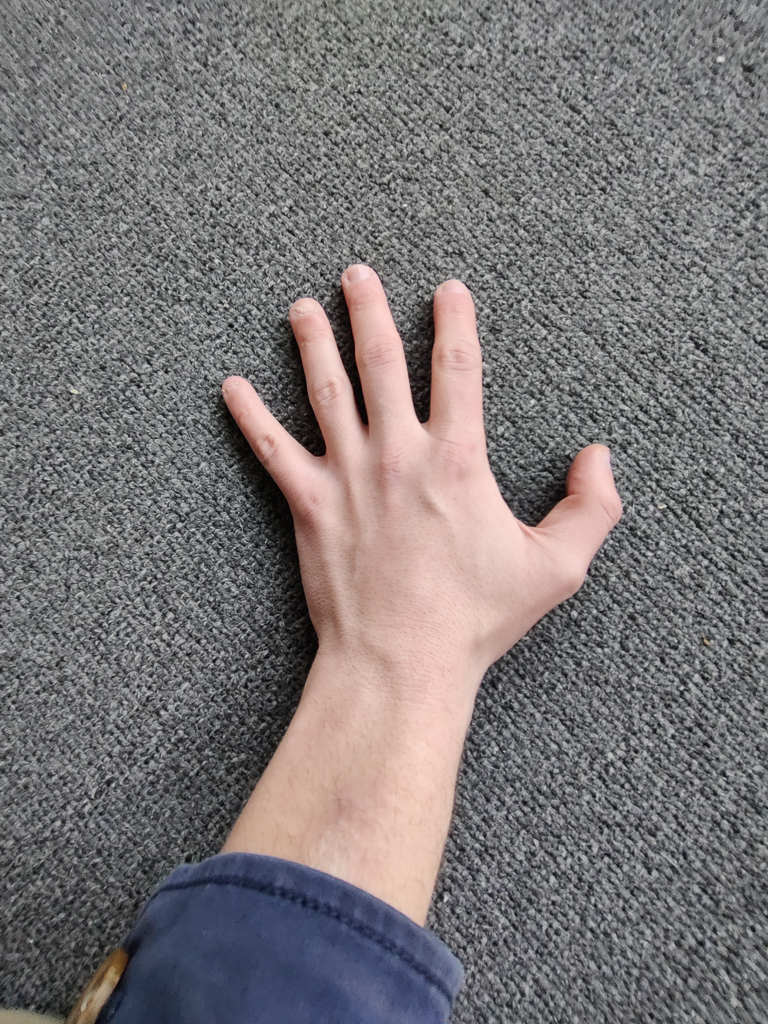Humanoid: (0, 252, 634, 1024)
